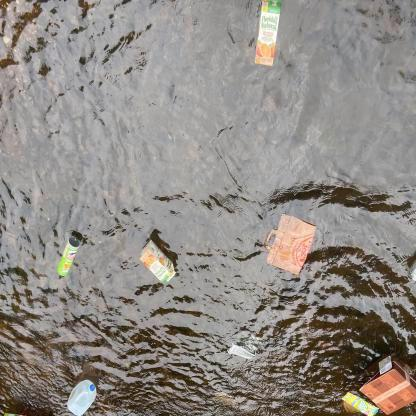Metal: (54, 233, 82, 279), (225, 330, 258, 361)
Plastic: (65, 378, 98, 416), (408, 253, 416, 284)
Trash: (263, 211, 316, 278)
